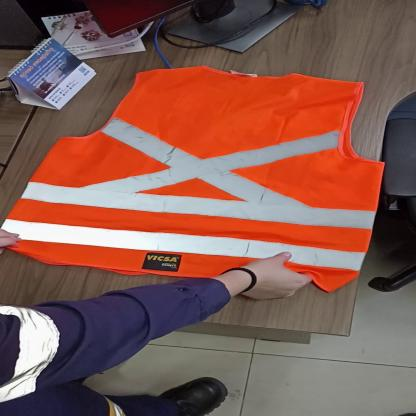colete: (0, 68, 387, 292)
